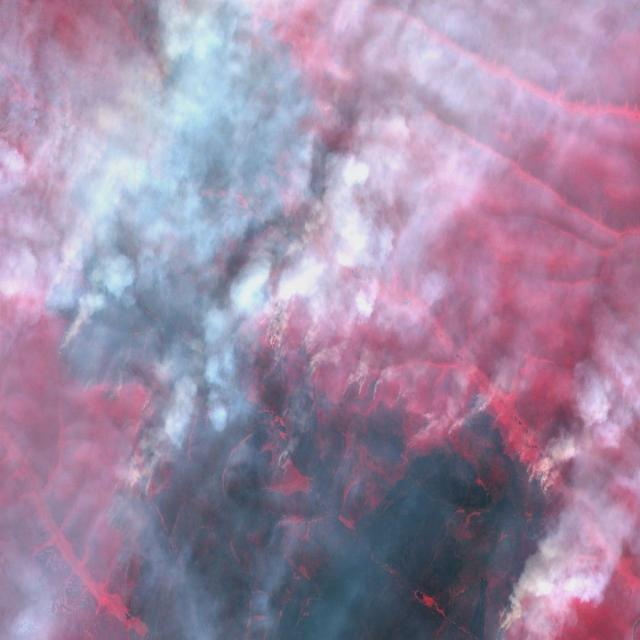fire: (39, 0, 562, 640)
